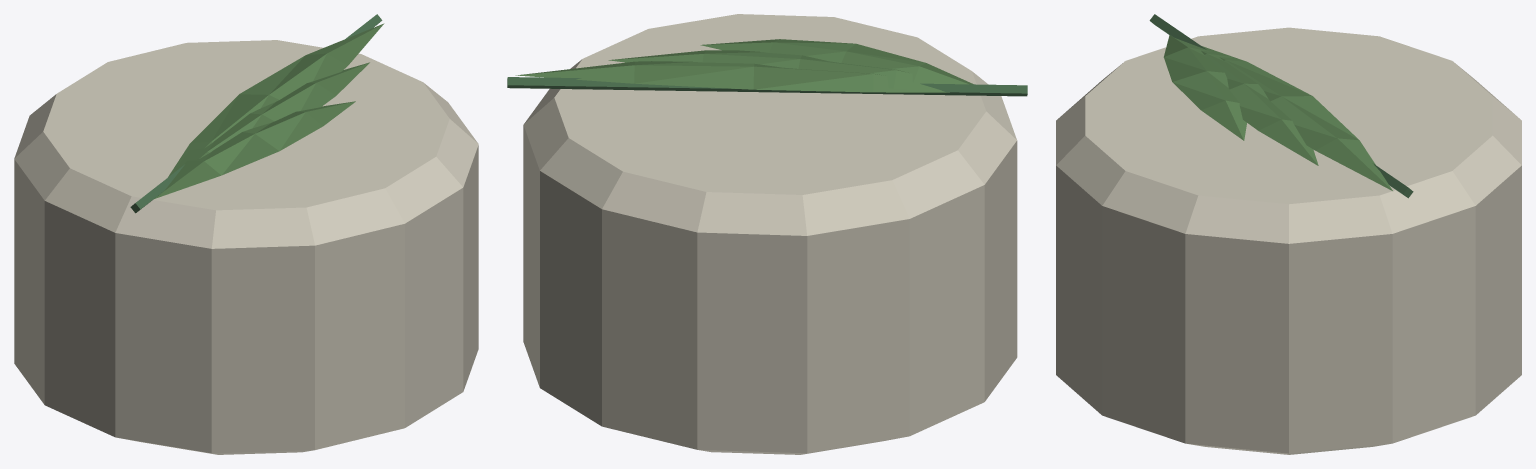
The model's file is cheese_goat.glb.
The picture shows the model from 3 angles, left to right: view 1: azimuth 30°, elevation 25°; view 2: azimuth 150°, elevation 25°; view 3: azimuth 270°, elevation 25°; orthographic projection. The views are drawn at different scales.
Visible parts, largest first — view 1: geometry; view 2: geometry; view 3: geometry.
Boxes of the visible parts, left/top/right/bottom form: geometry: left=14, top=14, right=478, bottom=454; geometry: left=507, top=14, right=1027, bottom=454; geometry: left=1056, top=14, right=1521, bottom=454.
Size of the model in its own units: 0.32 by 0.2119 by 0.312.
